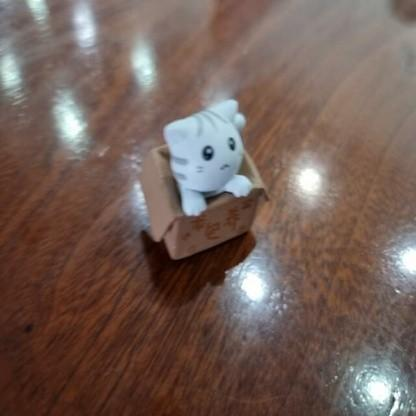not trash: (122, 90, 315, 270)
